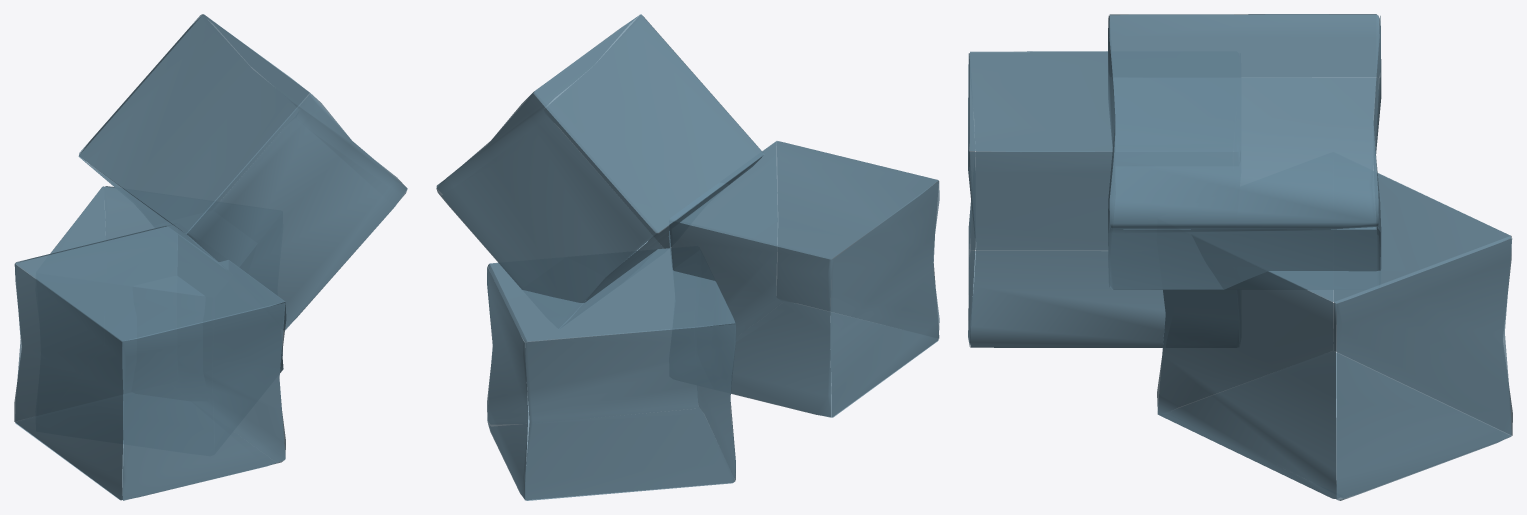
File: ice.glb
3 views of the same model, side by side, from view 1: azimuth 30°, elevation 25°; view 2: azimuth 150°, elevation 25°; view 3: azimuth 270°, elevation 25° (orthographic). The views are drawn at different scales.
Visible parts, largest first — view 1: Box001, Box001_Material #25_0.001, Box001_Material #25_0.002; view 2: Box001, Box001_Material #25_0.002, Box001_Material #25_0.001; view 3: Box001_Material #25_0.002, Box001_Material #25_0.001, Box001.
Boxes of the visible parts, box(x1,y1,x2,y2) form: Box001: box(14, 224, 286, 500); Box001_Material #25_0.001: box(78, 14, 407, 330); Box001_Material #25_0.002: box(50, 186, 283, 400); Box001: box(668, 141, 939, 417); Box001_Material #25_0.002: box(487, 248, 736, 500); Box001_Material #25_0.001: box(436, 14, 764, 328); Box001_Material #25_0.002: box(1157, 172, 1512, 500); Box001_Material #25_0.001: box(1108, 14, 1381, 289); Box001: box(968, 51, 1240, 347).
Size of the model in its own units: 0.8216 by 0.8251 by 0.9048.
